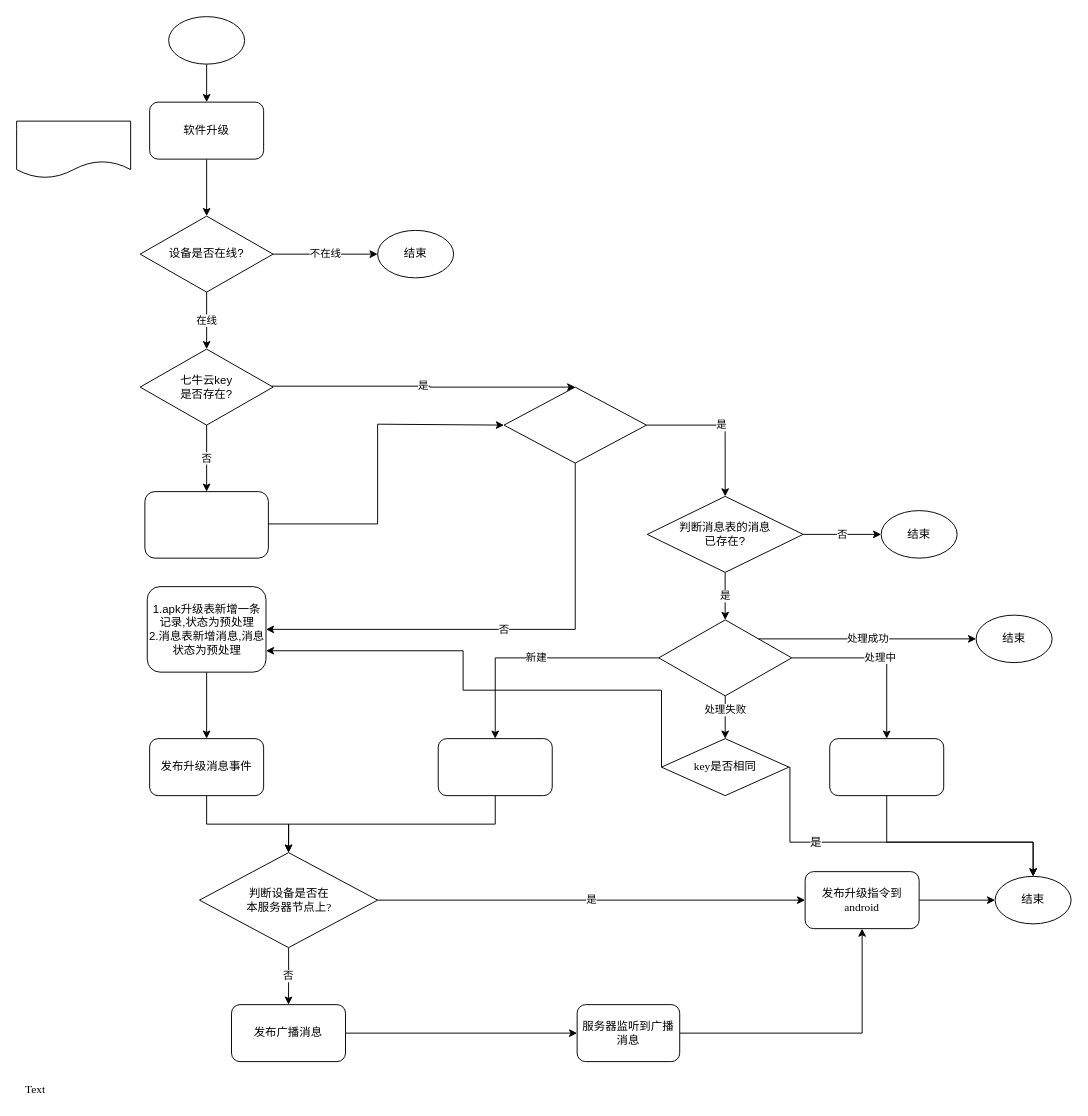
The diagram is 1088 pixels wide and 1116 high, and some of its shapes have lost their labels. The shapes that lost their labels are listed below. From the top down, each one's box as (x1, y1, x2, y2) in pixels, then its label:
(168, 16, 245, 64): 开始
(16, 120, 131, 178): 设备列表模块
(503, 386, 646, 463): apk升级表是否 存在最新 非升级成功记录?
(144, 491, 268, 558): 保存七牛云key值
(658, 619, 792, 696): 判定消息状态
(437, 738, 552, 796): 1.前端提示设备处于升级中 2.重发升级消息事件,
(829, 738, 944, 796): 提示该设备处于软件升级中
